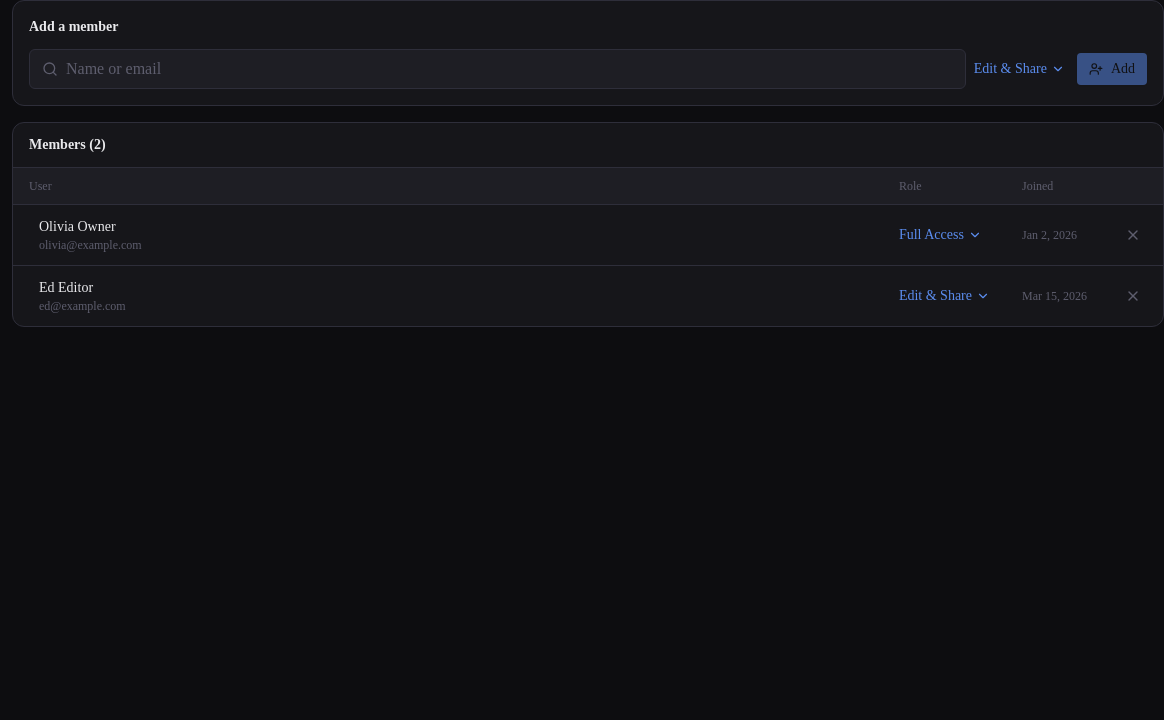
Scenario: changing a role › shows why a change failed
Expected: the heading "Members (2)" is shown, top-left (13, 123), bottom-right (1163, 168)
Click the button with aria-label "Role for Ed Editor" at (944, 296), box top-left (899, 286), bottom-right (990, 306)
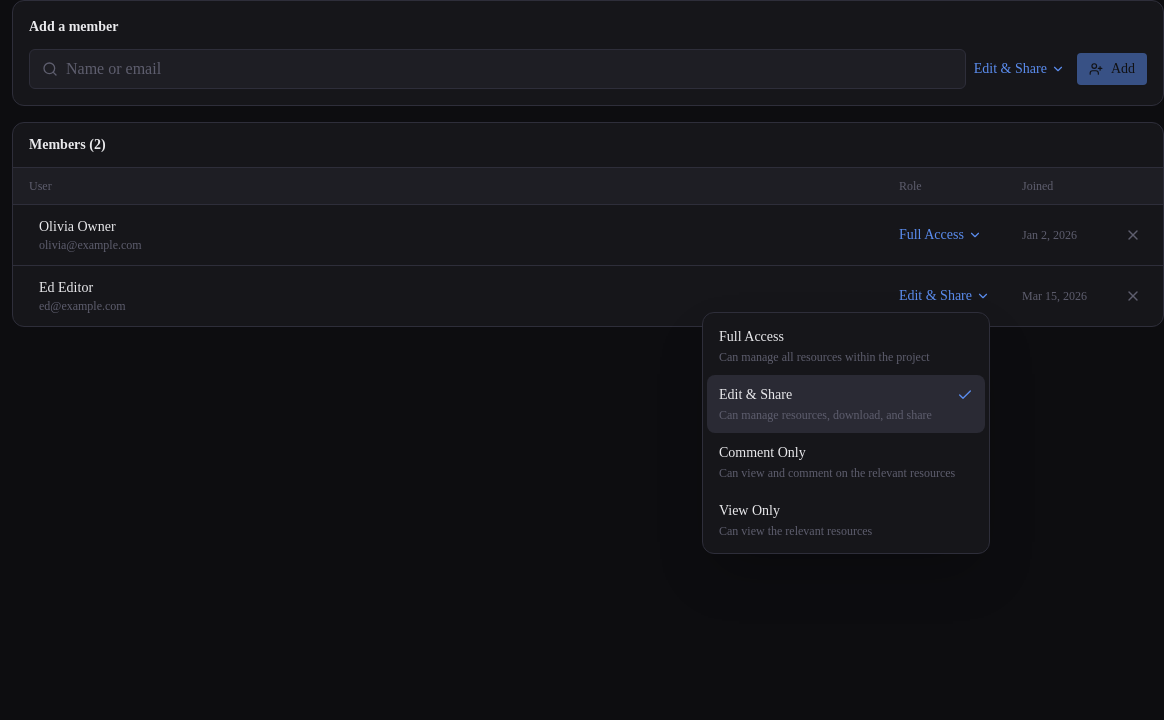
Click the menu item "View Only Can view the relevant resources" at (749, 510), box top-left (719, 503), bottom-right (872, 538)
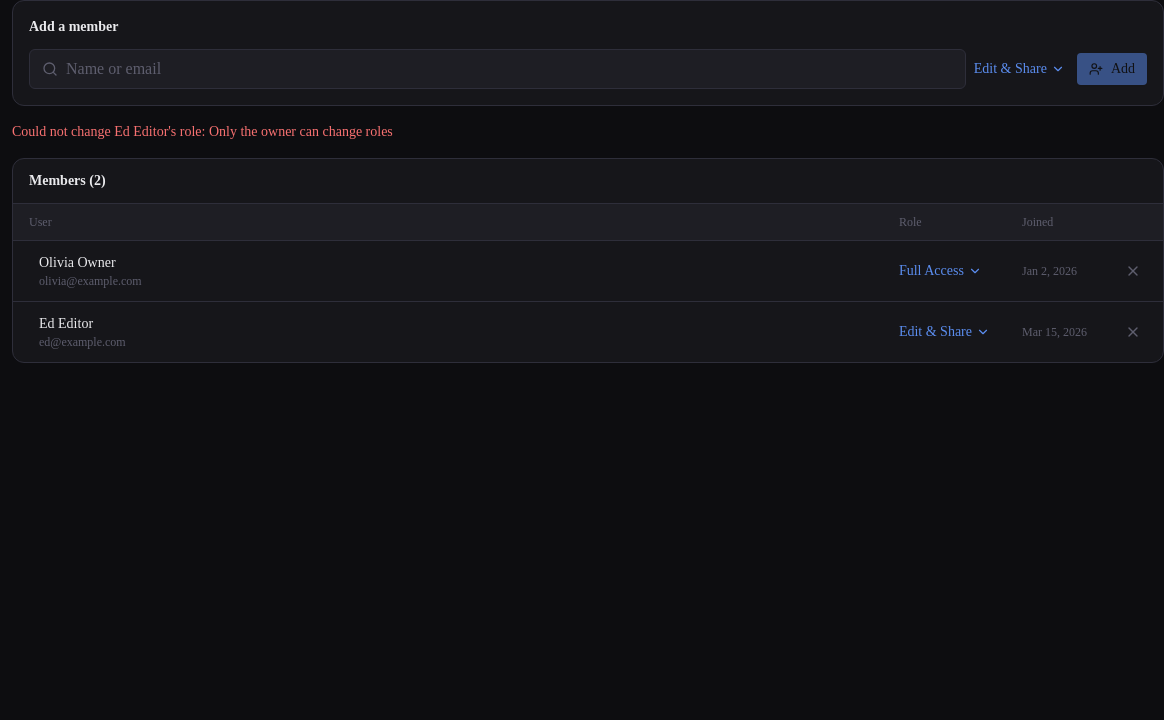
Expected: the text "Could not change Ed Editor's role: Only the owner can change roles" is shown, top-left (12, 124), bottom-right (393, 139)
